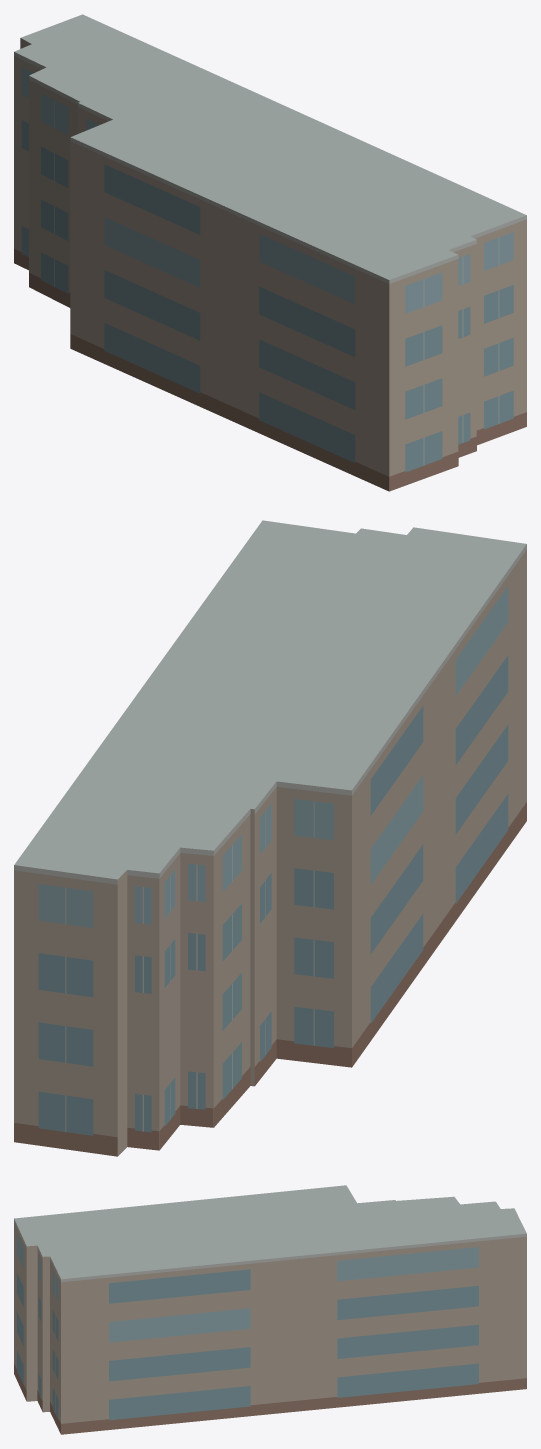
The model's file is survey-upis-32536493.glb.
The picture shows the model from 3 angles, top to bottom: view 1: azimuth 30°, elevation 25°; view 2: azimuth 150°, elevation 25°; view 3: azimuth 270°, elevation 25°; orthographic projection. The views are drawn at different scales.
Visible parts, largest first — view 1: survey-upis-32536493.tmp; view 2: survey-upis-32536493.tmp; view 3: survey-upis-32536493.tmp.
Part boxes in pixels (x1,y1,x2,y2): survey-upis-32536493.tmp: (14,14,526,491); survey-upis-32536493.tmp: (14,520,526,1156); survey-upis-32536493.tmp: (14,1185,526,1434).
Size of the model in its own units: 16.63 by 12.8 by 38.29.
